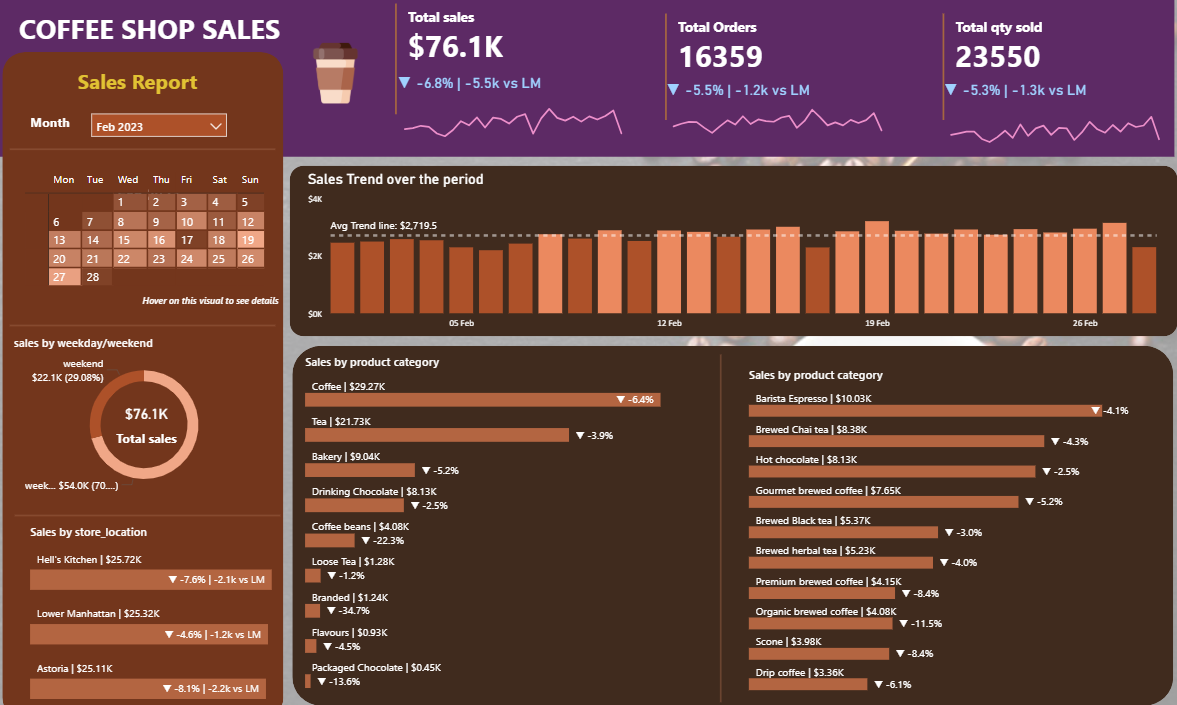

What the dashboard file says about the page in this screenshot:
{"tool":"powerbi","page":{"name":"Page 1","canvas":[1400,850],"ordinal":0},"visuals":[{"type":"cardVisual","fields":{"Data":["Coffee Shop Sales.Total sales"]},"box":[463.4,2.9,284.4,140],"z":0,"group":"g1"},{"type":"cardVisual","fields":{"Data":["Coffee Shop Sales.total orders"]},"box":[781.6,14.4,274.3,135.7],"z":0,"group":"g5"},{"type":"cardVisual","fields":{"Data":["Coffee Shop Sales.Total qty sold"]},"box":[1107.9,14.4,274.3,135.7],"z":0,"group":"g4"},{"type":"shape","box":[345.6,198.8,1043.1,200.4],"z":0},{"type":"donutChart","title":"sales by weekday/weekend","fields":{"Y":["Coffee Shop Sales.Total sales"],"Category":["Date Table.weekday/weekend"]},"box":[16.4,397.2,316.2,194.9],"z":0,"group":"g7"},{"type":"shape","box":[0,0,1384.4,187.7],"z":1000},{"type":"lineChart","fields":{"Category":["Date Table.Date.Variation.Date Hierarchy.Year","Date Table.Date.Variation.Date Hierarchy.Quarter","Date Table.Date.Variation.Date Hierarchy.Month","Date Table.Date.Variation.Date Hierarchy.Day"],"Y":["Coffee Shop Sales.Total sales"]},"box":[464.6,89.8,284.4,86.6],"z":1000,"group":"g1"},{"type":"lineChart","fields":{"Category":["Date Table.Date.Variation.Date Hierarchy.Year","Date Table.Date.Variation.Date Hierarchy.Quarter","Date Table.Date.Variation.Date Hierarchy.Month","Date Table.Date.Variation.Date Hierarchy.Day"],"Y":["Coffee Shop Sales.Total Orders"]},"box":[781,97.9,274.3,79.4],"z":1000,"group":"g5"},{"type":"lineChart","fields":{"Category":["Date Table.Date.Variation.Date Hierarchy.Year","Date Table.Date.Variation.Date Hierarchy.Quarter","Date Table.Date.Variation.Date Hierarchy.Month","Date Table.Date.Variation.Date Hierarchy.Day"],"Y":["Coffee Shop Sales.Total qty sold"]},"box":[1107.3,97.9,274.3,79.4],"z":1000,"group":"g4"},{"type":"card","fields":{"Values":["Coffee Shop Sales.Total sales"]},"box":[134,471.7,86.6,59.2],"z":1000,"group":"g7"},{"type":"shape","box":[7.2,65,330.6,785.3],"z":2000},{"type":"textbox","box":[21.7,10.1,350.8,54.9],"z":3000},{"type":"slicer","fields":{"Values":["Date Table.month year"]},"box":[106.8,132.8,168.9,46.2],"z":4000},{"type":"group","id":"g1","title":"Group 1","box":[463.4,2.9,285.8,174.7],"z":5000},{"type":"group","id":"g2","title":"Group 1","box":[781,14.4,275.7,163.1],"z":6000},{"type":"group","id":"g3","title":"Group 1","box":[1107.3,14.4,274.3,163.1],"z":7000},{"type":"group","id":"g4","title":"Group 3","box":[1107.3,14.4,274.9,162.9],"z":7001,"group":"g6"},{"type":"group","id":"g5","title":"Group 2","box":[781,14.4,274.9,162.9],"z":7002,"group":"g2"},{"type":"group","id":"g6","title":"Group 2","box":[1107.3,14.4,274.9,162.9],"z":7002,"group":"g3"},{"type":"card","fields":{"Values":["Min(Date Table.month year)"]},"box":[106.8,215.1,144.4,37.5],"z":8000},{"type":"pivotTable","fields":{"Rows":["Date Table.week number"],"Columns":["Date Table.Day Name"],"Values":["Min(Date Table.Day number)"]},"box":[28.9,199.2,311.8,171.8],"z":9000,"group":"g8"},{"type":"shape","box":[21.7,594.8,311.8,28.9],"z":9000},{"type":"shape","box":[15.9,164.6,311.8,28.9],"z":10000},{"type":"card","fields":{"Values":["Coffee Shop Sales.foot note"]},"box":[148.7,345,205,26],"z":10000,"group":"g8"},{"type":"group","id":"g7","title":"Group 4","box":[16.4,397.2,316.2,194.9],"z":11000},{"type":"group","id":"g8","title":"Group 5","box":[28.9,199.2,324.8,171.8],"z":12000},{"type":"clusteredBarChart","title":"Sales by store_location","fields":{"Category":["Coffee Shop Sales.store_location"],"Y":["Coffee Shop Sales.placeholder","Coffee Shop Sales.Total sales"]},"box":[34.6,617.9,323.4,215.1],"z":13000},{"type":"shape","box":[15.9,371,311.8,28.9],"z":14000},{"type":"shape","box":[348.7,410.3,1035.2,422.9],"z":15000},{"type":"clusteredColumnChart","title":"Sales Trend over the period","fields":{"Y":["Coffee Shop Sales.Total sales"],"Category":["Coffee Shop Sales.transaction_date"]},"box":[361.4,203.6,1008.4,195.7],"z":16000},{"type":"clusteredBarChart","title":"Sales by product category","fields":{"Y":["Coffee Shop Sales.placeholder","Coffee Shop Sales.Total sales"],"Category":["Coffee Shop Sales.product_category"]},"box":[358.2,418.2,454.5,399.2],"z":17000},{"type":"shape","box":[833,420.1,37.5,408.5],"z":18000},{"type":"clusteredBarChart","title":"Sales by product category","fields":{"Y":["Coffee Shop Sales.placeholder","Coffee Shop Sales.Total sales"],"Category":["Coffee Shop Sales.product_type"]},"box":[879.2,434.5,456.2,385.4],"z":19000},{"type":"textbox","box":[34.6,132.8,72.2,31.8],"z":20000},{"type":"textbox","box":[90.9,78,184.8,43.3],"z":21000},{"type":"image","box":[358,14.4,80.8,150.1],"z":21001}]}

Visuals, with their boxes in screenshot pixels (x1, y1, x2, y2), scaled from the page's 1400x850 canvas onto the 1177x705 screenshot:
cardVisual - Coffee Shop Sales.Total sales: bbox=(390, 2, 629, 119)
cardVisual - Coffee Shop Sales.total orders: bbox=(657, 12, 888, 124)
cardVisual - Coffee Shop Sales.Total qty sold: bbox=(931, 12, 1162, 124)
shape: bbox=(291, 165, 1167, 331)
"sales by weekday/weekend" donutChart: bbox=(14, 329, 280, 491)
shape: bbox=(0, 0, 1164, 156)
lineChart - Date Table.Date.Variation.Date Hierarchy.Year x Date Table.Date.Variation.Date Hierarchy.Quarter: bbox=(391, 74, 630, 146)
lineChart - Date Table.Date.Variation.Date Hierarchy.Year x Date Table.Date.Variation.Date Hierarchy.Quarter: bbox=(657, 81, 887, 147)
lineChart - Date Table.Date.Variation.Date Hierarchy.Year x Date Table.Date.Variation.Date Hierarchy.Quarter: bbox=(931, 81, 1162, 147)
card - Coffee Shop Sales.Total sales: bbox=(113, 391, 185, 440)
shape: bbox=(6, 54, 284, 704)
textbox: bbox=(18, 8, 313, 54)
slicer - Date Table.month year: bbox=(90, 110, 232, 148)
"Group 1" group: bbox=(390, 2, 630, 147)
"Group 1" group: bbox=(657, 12, 888, 147)
"Group 1" group: bbox=(931, 12, 1162, 147)
"Group 3" group: bbox=(931, 12, 1162, 147)
"Group 2" group: bbox=(657, 12, 888, 147)
"Group 2" group: bbox=(931, 12, 1162, 147)
card - Min(Date Table.month year): bbox=(90, 178, 211, 210)
pivotTable - Date Table.week number x Date Table.Day Name: bbox=(24, 165, 286, 308)
shape: bbox=(18, 493, 280, 517)
shape: bbox=(13, 137, 276, 160)
card - Coffee Shop Sales.foot note: bbox=(125, 286, 297, 308)
"Group 4" group: bbox=(14, 329, 280, 491)
"Group 5" group: bbox=(24, 165, 297, 308)
"Sales by store_location" clusteredBarChart: bbox=(29, 512, 301, 691)
shape: bbox=(13, 308, 276, 332)
shape: bbox=(293, 340, 1163, 691)
"Sales Trend over the period" clusteredColumnChart: bbox=(304, 169, 1152, 331)
"Sales by product category" clusteredBarChart: bbox=(301, 347, 683, 678)
shape: bbox=(700, 348, 732, 687)
"Sales by product category" clusteredBarChart: bbox=(739, 360, 1123, 680)
textbox: bbox=(29, 110, 90, 137)
textbox: bbox=(76, 65, 232, 101)
image: bbox=(301, 12, 369, 136)
